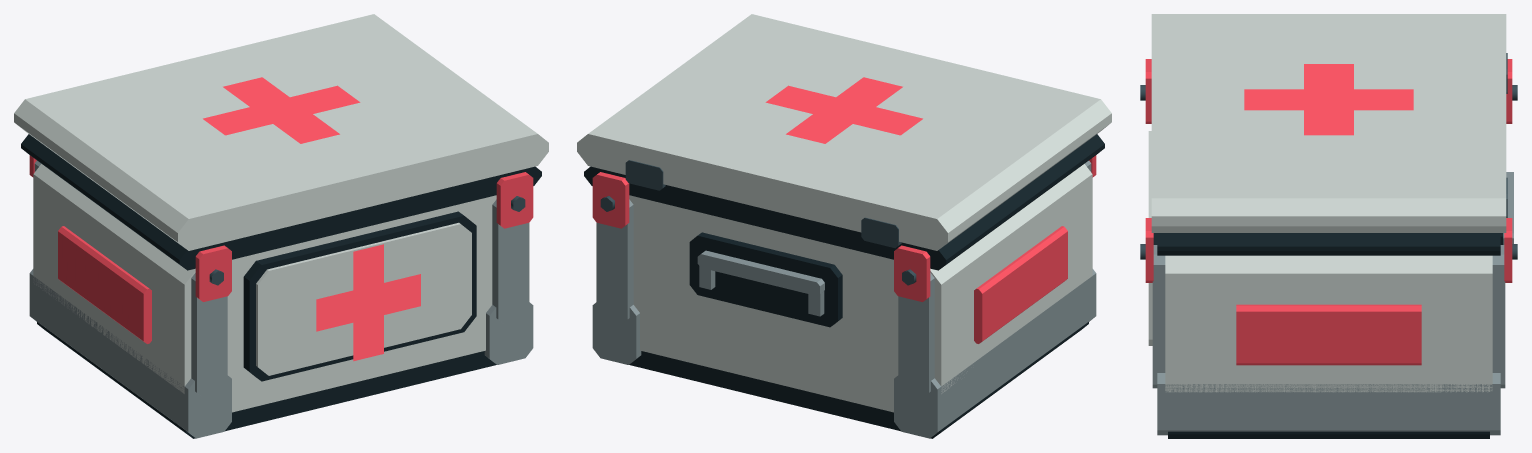
Rendered from medical-case-m01.glb.
3 renders of one model, left to right at view 1: azimuth 30°, elevation 25°; view 2: azimuth 150°, elevation 25°; view 3: azimuth 270°, elevation 25°, orthographic. The views are drawn at different scales.
Parts seen in each view (by area): view 1: M01_Shell_Surface, M01_Gasket_Surface, M01_Frame_Surface, M01_Signal_Surface, supply-mark-front, supply-mark-top; view 2: M01_Shell_Surface, M01_Frame_Surface, M01_Gasket_Surface, M01_Signal_Surface, supply-mark-top, M01_Fastener_Surface; view 3: M01_Shell_Surface, M01_Frame_Surface, M01_Signal_Surface, M01_Gasket_Surface, supply-mark-top, M01_Fastener_Surface.
Boxes of the visible parts, x1,y1,x2,y2 form: M01_Shell_Surface: [14, 14, 548, 412]; M01_Gasket_Surface: [21, 134, 541, 438]; M01_Frame_Surface: [29, 160, 533, 438]; M01_Signal_Surface: [29, 155, 533, 343]; supply-mark-front: [316, 244, 420, 361]; supply-mark-top: [203, 77, 360, 143]; M01_Shell_Surface: [577, 14, 1111, 412]; M01_Frame_Surface: [592, 160, 1096, 438]; M01_Gasket_Surface: [584, 134, 1104, 438]; M01_Signal_Surface: [592, 155, 1096, 343]; supply-mark-top: [765, 77, 922, 143]; M01_Fastener_Surface: [600, 160, 916, 285]; M01_Shell_Surface: [1148, 14, 1506, 392]; M01_Frame_Surface: [1152, 172, 1513, 435]; M01_Signal_Surface: [1145, 59, 1512, 365]; M01_Gasket_Surface: [1153, 233, 1503, 438]; supply-mark-top: [1244, 64, 1413, 135]; M01_Fastener_Surface: [1140, 53, 1517, 259].
Bounding box in the file's own units: 0.85 × 0.513 × 0.692.
